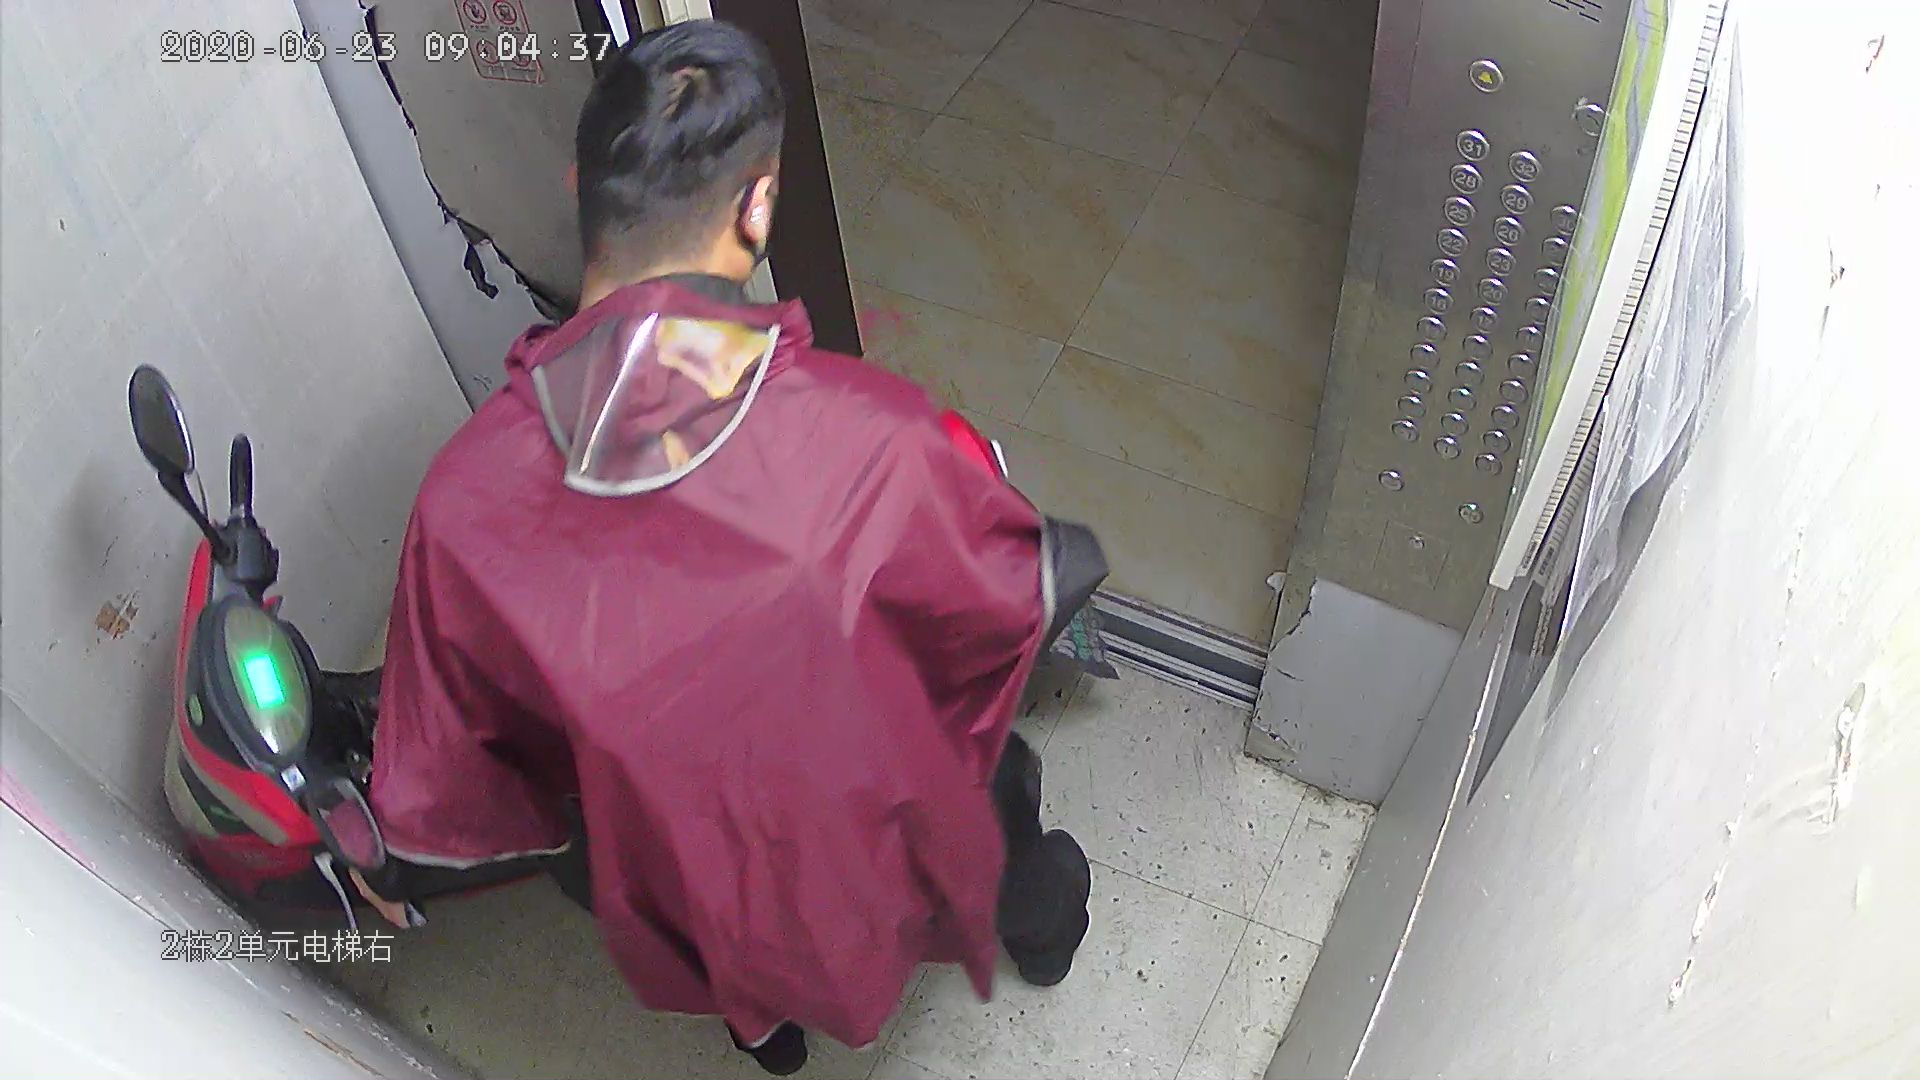Electric-bicycle: (103, 368, 498, 968)
